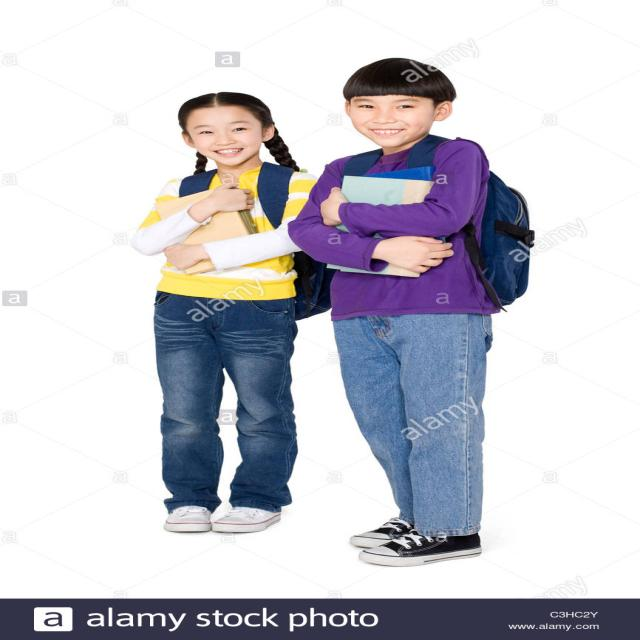child: (298, 44, 528, 569), (113, 84, 327, 540)
